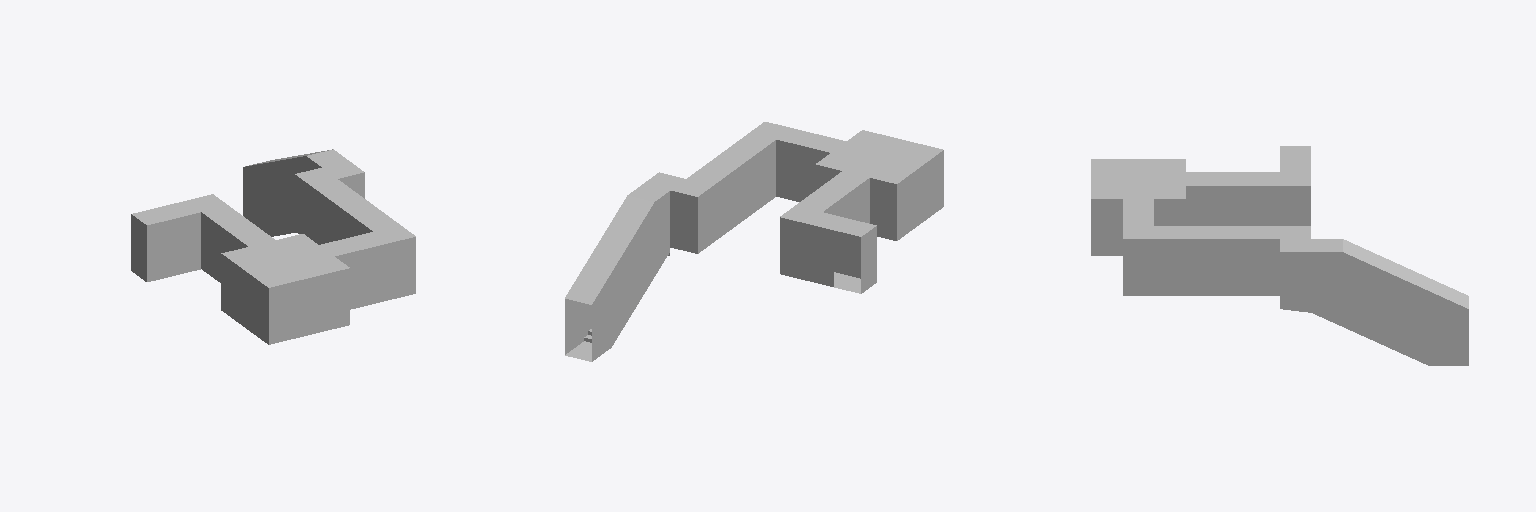
Rendered from floor_smallhall.obj.
3 views of the same model, side by side, from view 1: azimuth 30°, elevation 25°; view 2: azimuth 150°, elevation 25°; view 3: azimuth 270°, elevation 25° (orthographic).
Size of the model in its own units: 800 by 400 by 1200.